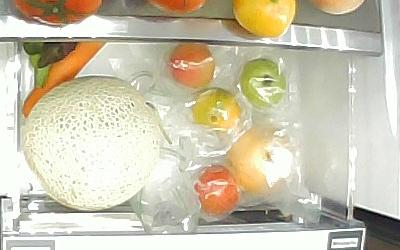carrot: (22, 42, 106, 118)
eggplant: (36, 42, 79, 69)
melon: (23, 74, 162, 211)
pear_vinyl: (230, 130, 293, 197)
prune_vinyl: (169, 43, 215, 89)
tangerine_vinyl: (191, 88, 242, 136)
tomato_vinyl: (238, 58, 288, 109), (193, 165, 241, 214)
zucchini: (22, 41, 51, 89)
